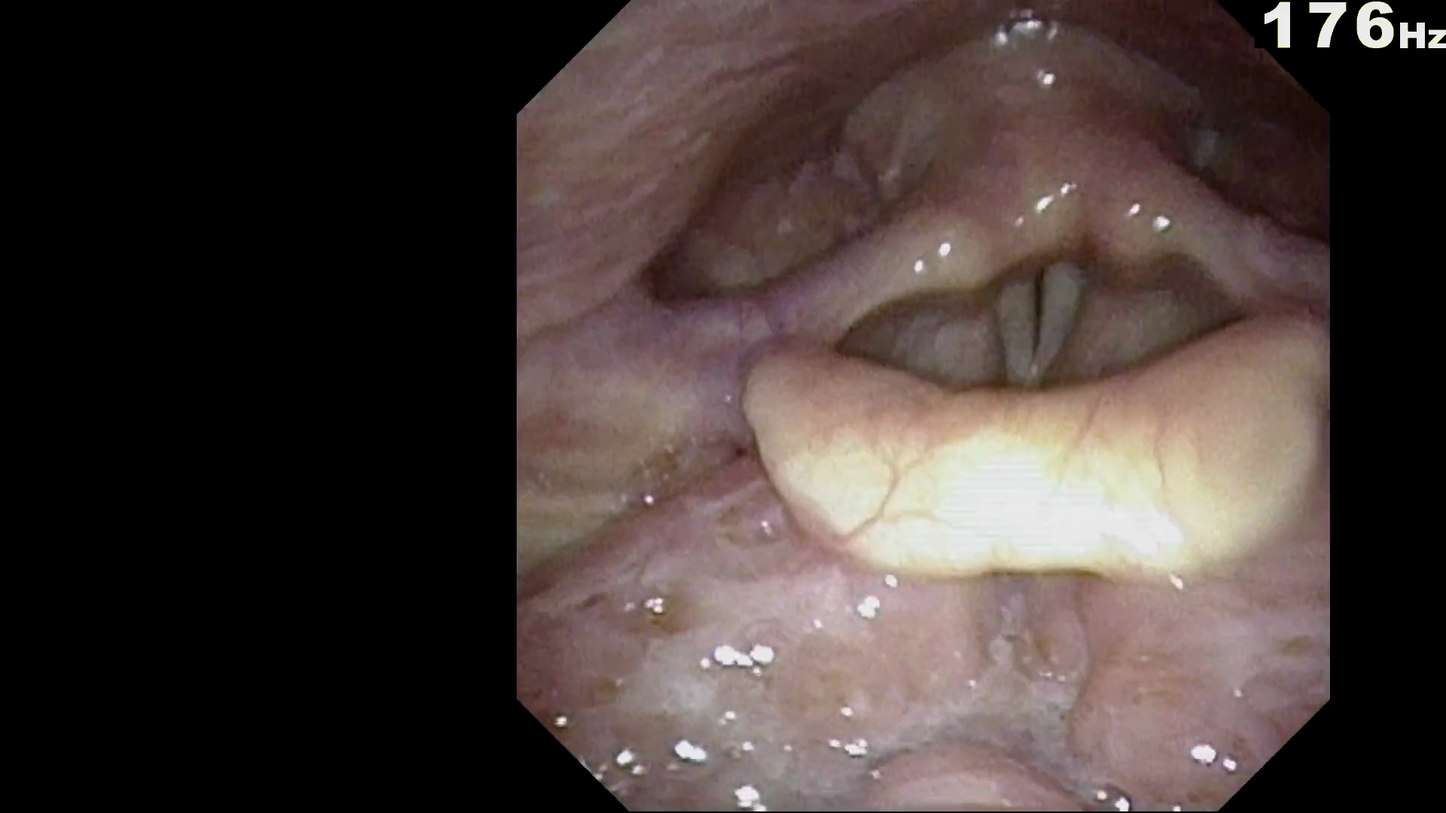epiglottis: (745, 288, 1317, 562)
trachea: (977, 237, 1124, 391)
